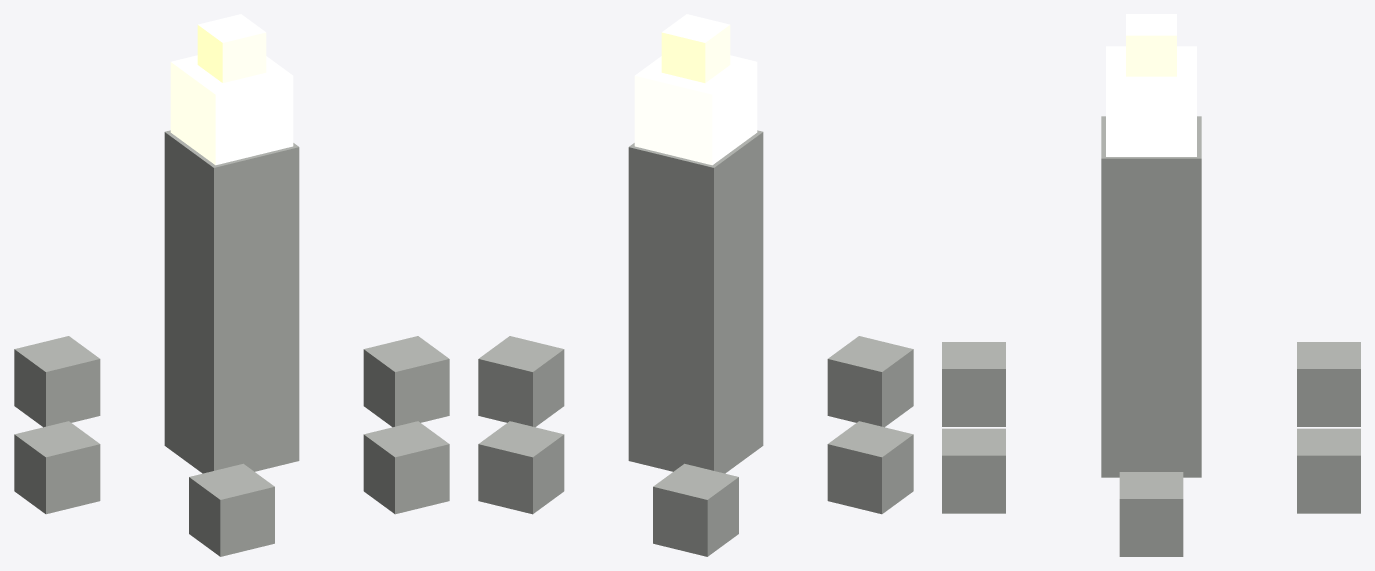
Rendered from ember_prop_shrine_00.glb.
The picture shows the model from 3 angles, left to right: view 1: azimuth 30°, elevation 25°; view 2: azimuth 150°, elevation 25°; view 3: azimuth 270°, elevation 25°; orthographic projection.
Parts seen in each view (by area): view 1: ember_prop_shrine_00; view 2: ember_prop_shrine_00; view 3: ember_prop_shrine_00.
Boxes of the visible parts, x1=… form: ember_prop_shrine_00: x1=14, y1=14, x2=449, y2=556; ember_prop_shrine_00: x1=478, y1=14, x2=913, y2=556; ember_prop_shrine_00: x1=942, y1=14, x2=1360, y2=556.
Bounding box in the file's own units: 2.54 × 2.56 × 2.25.
